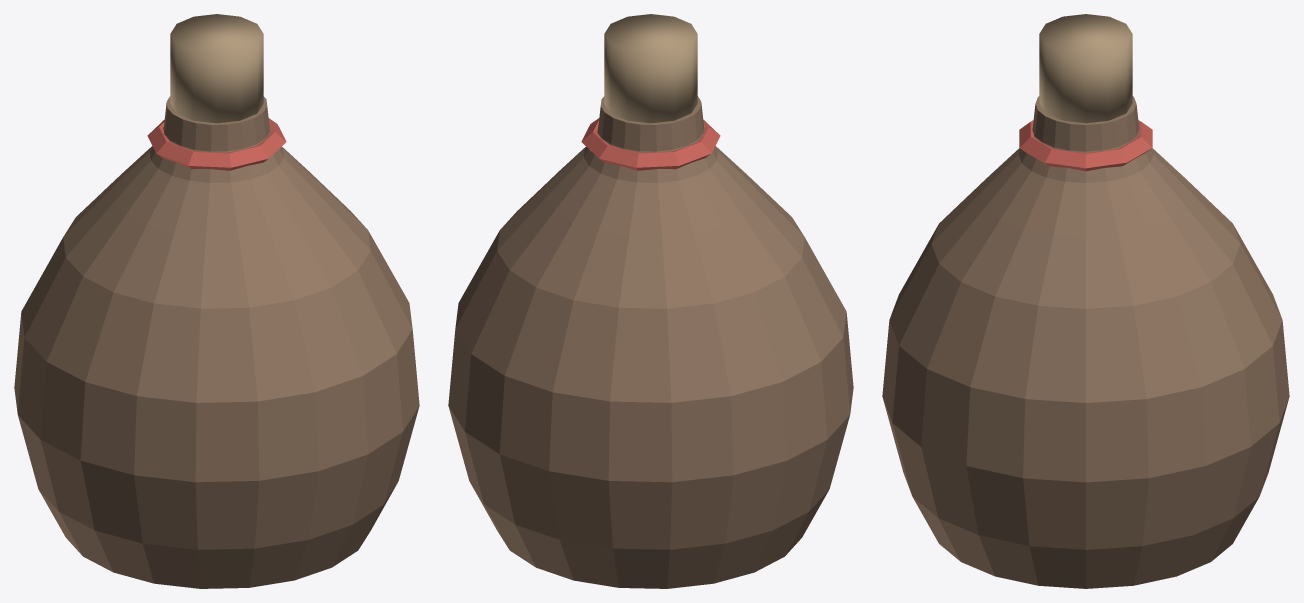
Rendered from grotto_pirate_rum_flask_LOD0_roblox.fbx.
3 views of the same model, side by side, from view 1: azimuth 30°, elevation 25°; view 2: azimuth 150°, elevation 25°; view 3: azimuth 270°, elevation 25° (orthographic).
Visible parts, largest first — view 1: rum_Glass, rum_Cork, rum_WaxSeal; view 2: rum_Glass, rum_Cork, rum_WaxSeal; view 3: rum_Glass, rum_Cork, rum_WaxSeal.
Part boxes in pixels (x1,y1,x2,y2): rum_Glass: [14, 96, 419, 588]; rum_Cork: [170, 14, 263, 123]; rum_WaxSeal: [147, 118, 286, 170]; rum_Glass: [448, 96, 853, 588]; rum_Cork: [604, 14, 697, 123]; rum_WaxSeal: [581, 118, 720, 170]; rum_Glass: [882, 96, 1289, 588]; rum_Cork: [1039, 14, 1132, 123]; rum_WaxSeal: [1019, 120, 1152, 171].
Bounding box in the file's own units: 0.29 × 0.29 × 0.385.
